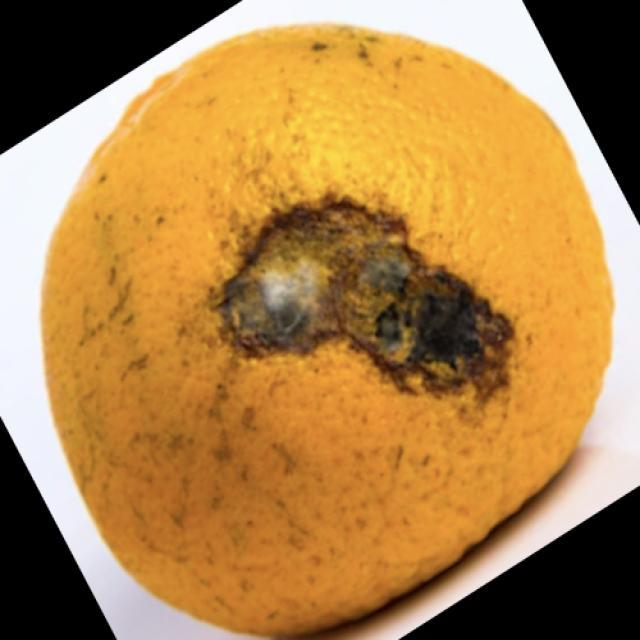sedikit-busuk: (42, 26, 612, 634)
